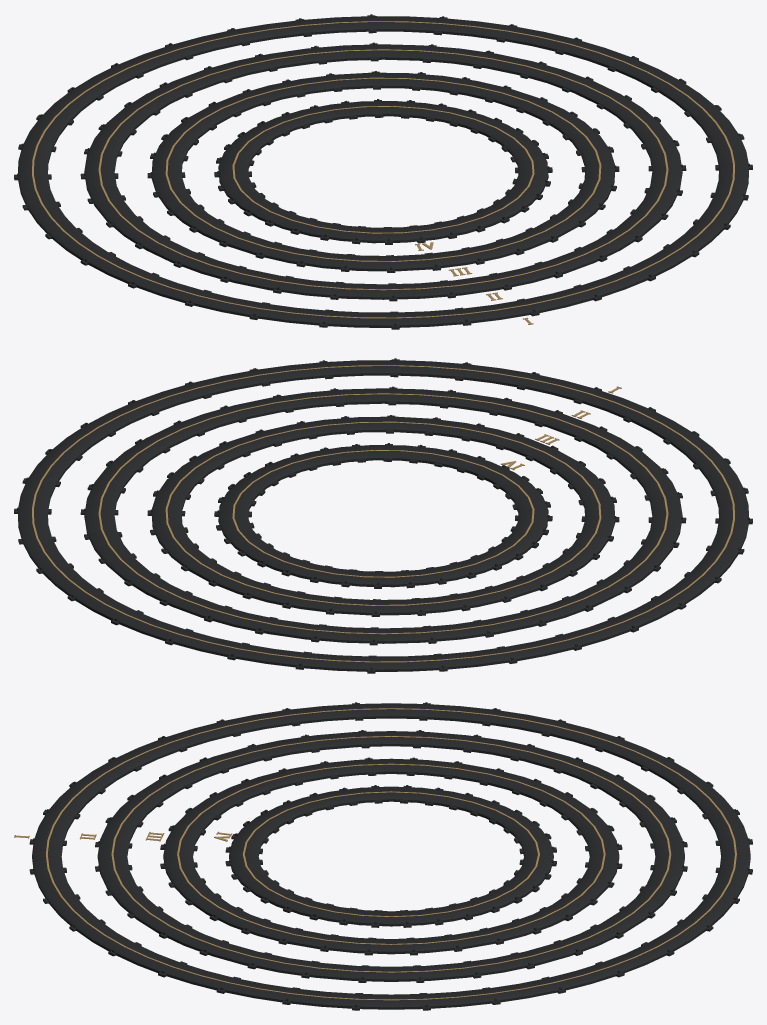
File: ring_rails.glb
The picture shows the model from 3 angles, top to bottom: view 1: azimuth 30°, elevation 25°; view 2: azimuth 150°, elevation 25°; view 3: azimuth 270°, elevation 25°; orthographic projection.
Visible parts, largest first — view 1: ring_rails; view 2: ring_rails; view 3: ring_rails.
Part boxes in pixels (bbox=[...]): ring_rails: bbox=[14, 14, 752, 329]; ring_rails: bbox=[14, 358, 752, 673]; ring_rails: bbox=[14, 702, 752, 1010].
Bounding box in the file's own units: 22.04 × 0.14 × 22.52.
